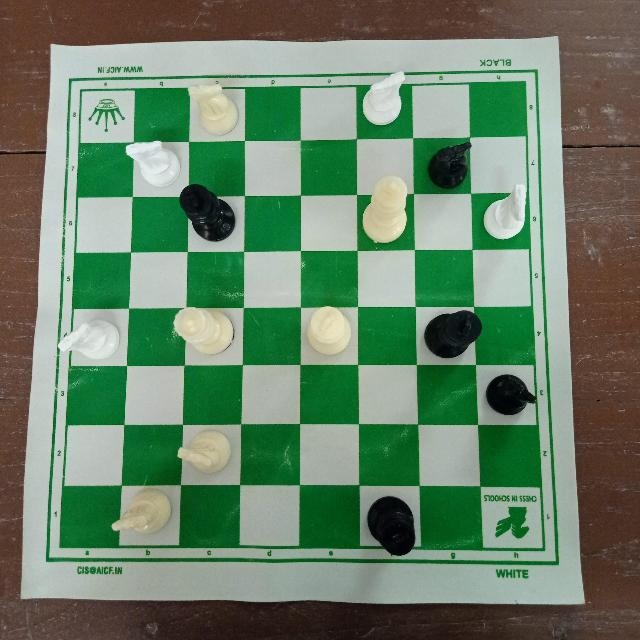black-king: (175, 182, 240, 245), (364, 492, 420, 560), (422, 306, 486, 363)
black-knight: (428, 136, 476, 191), (484, 374, 540, 416)
white-king: (361, 169, 411, 248), (303, 303, 359, 359)
white-knight: (105, 490, 179, 540), (57, 315, 128, 367), (171, 423, 237, 476), (183, 80, 241, 139), (481, 180, 531, 242), (362, 68, 410, 130), (124, 137, 180, 188)
white-queen: (169, 303, 239, 359)
